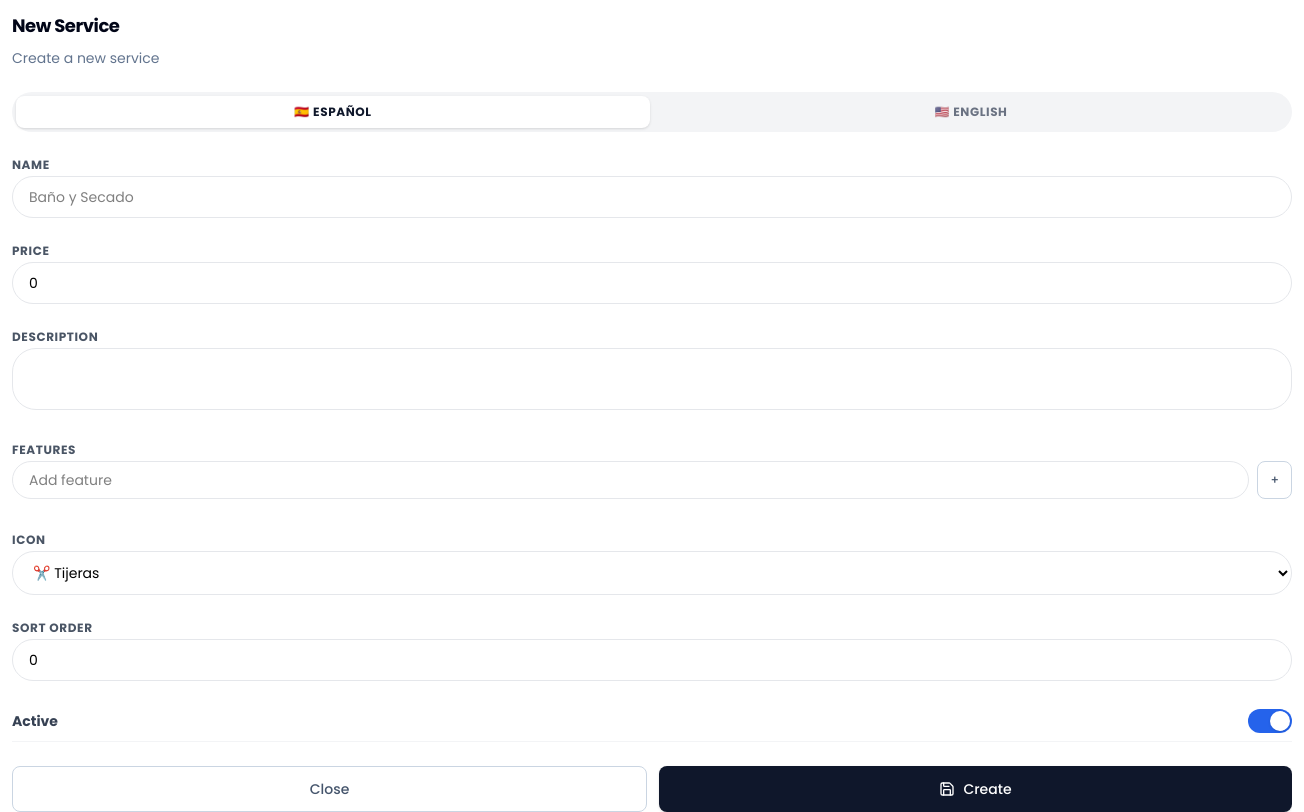
ServiceFormSidebar › creates a service successfully
Type "New Service" into the field with placeholder "Baño y Secado" at (652, 197), box [12,176,1292,218]
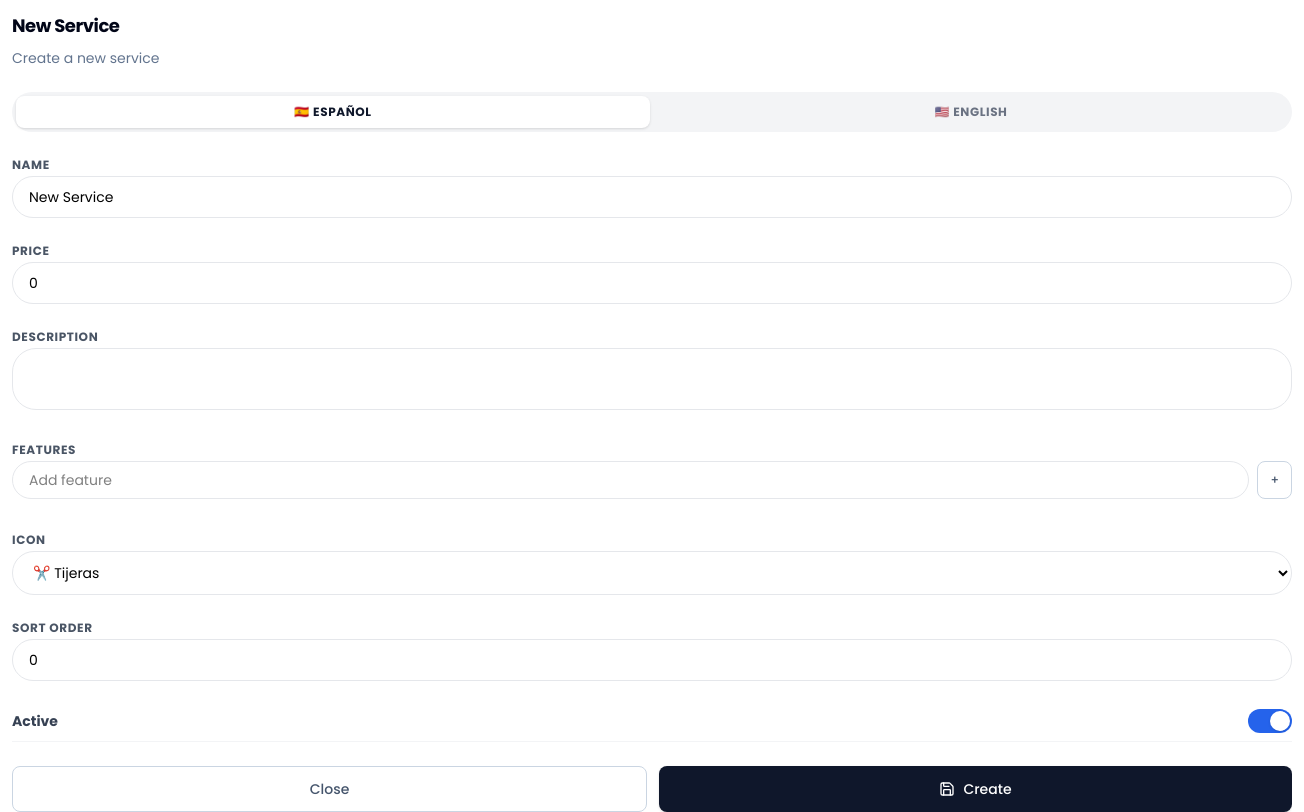
Replace the text in the number field labelled "Price" with "500" at (652, 283), box [12,262,1292,304]
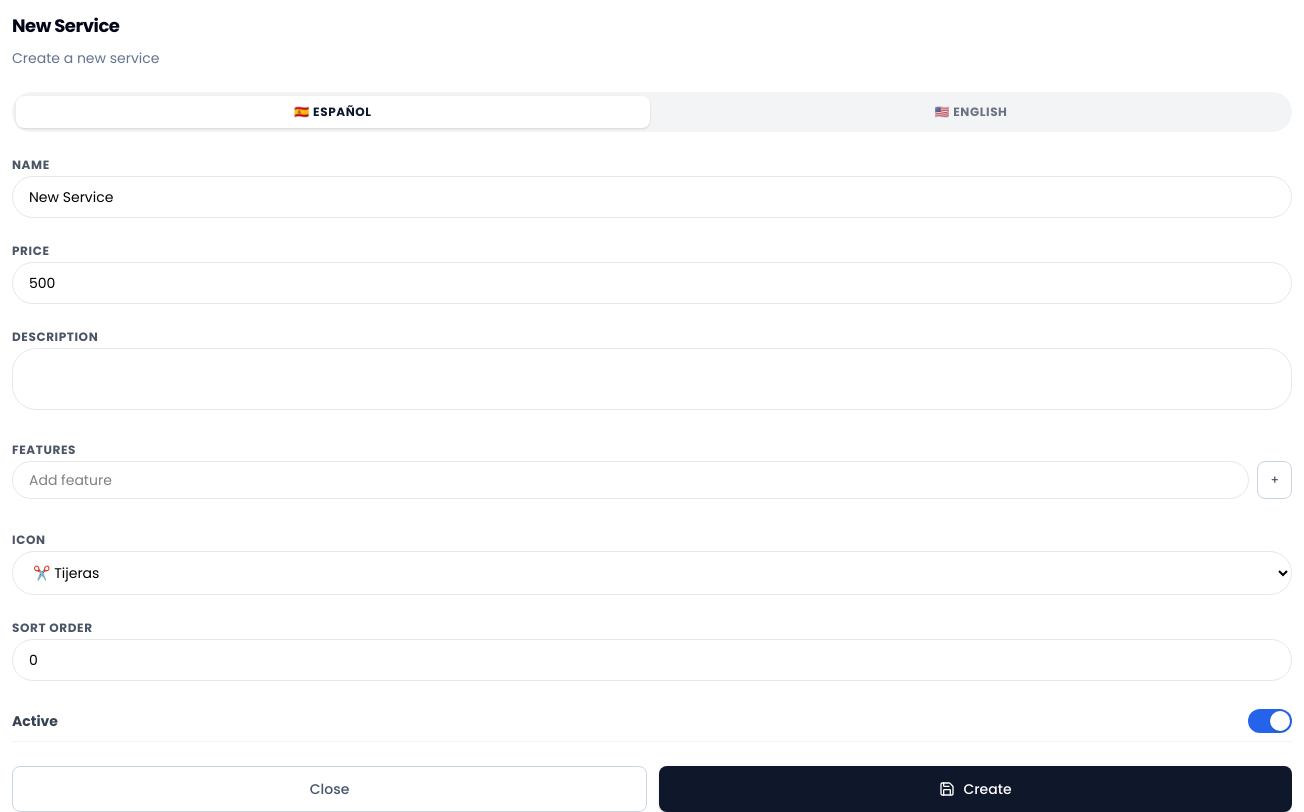
Type "New Desc" into the text box labelled "Description" at (652, 379), box [12,348,1292,410]
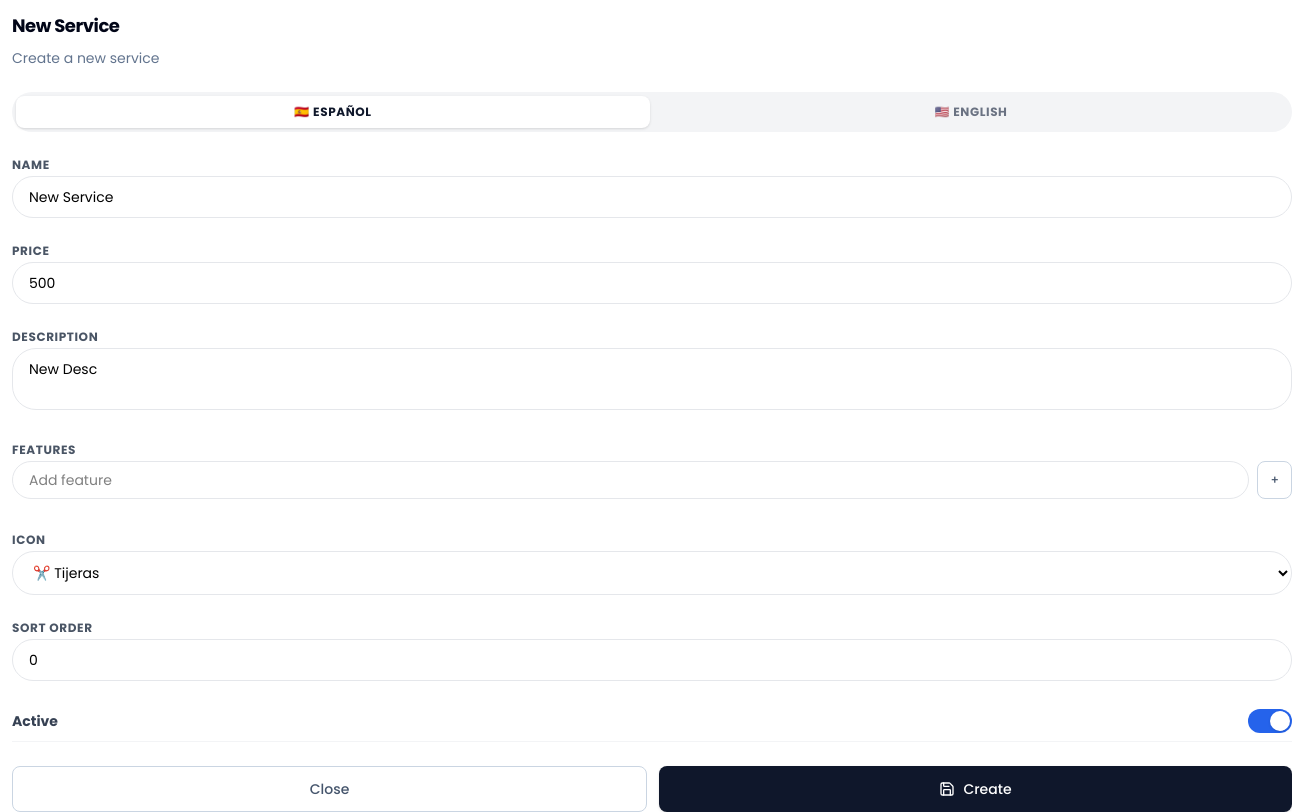
Select "✂️ Tijeras" in the dropdown labelled "Icon" at (652, 573), box [12,551,1292,595]
Replace the text in the number field labelled "Sort Order" with "10" at (652, 660), box [12,639,1292,681]
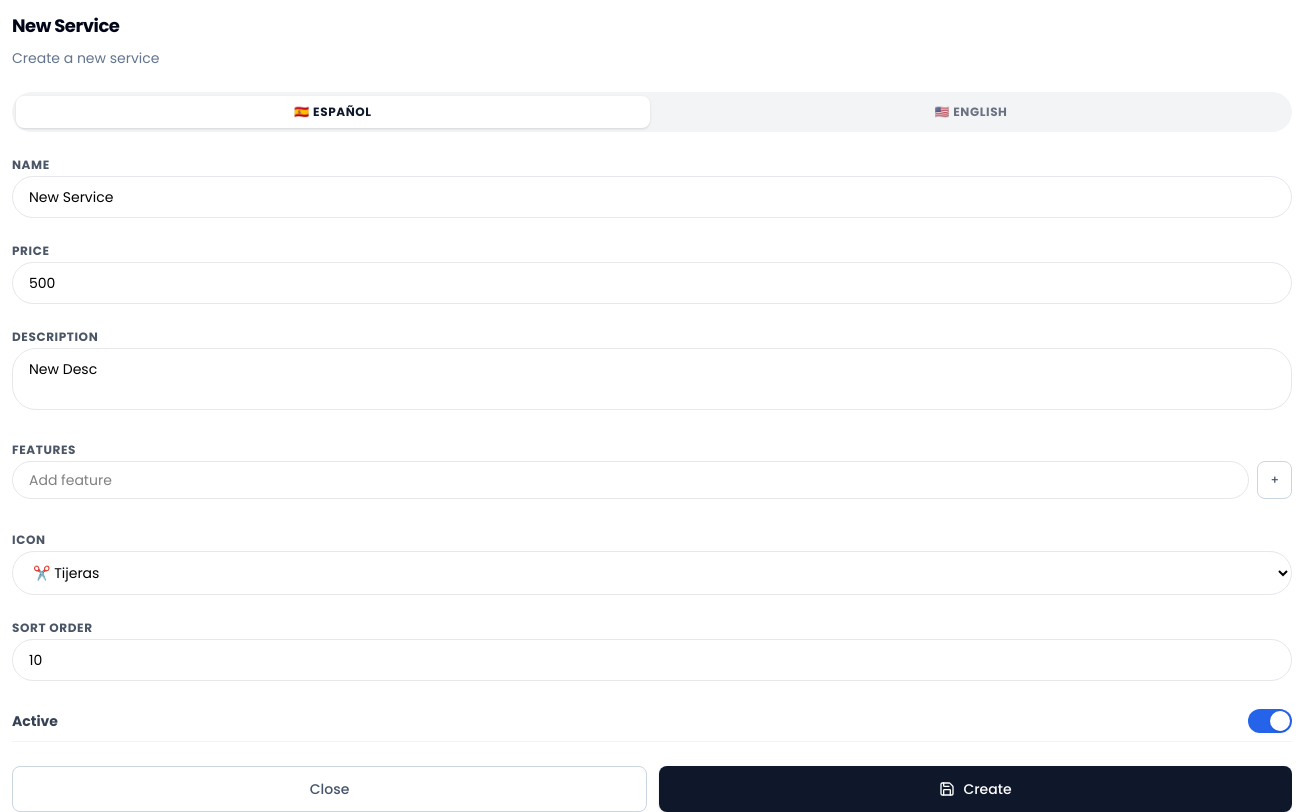
Click the button "Create" at (976, 789), box [659,766,1292,811]
Wait 1000 ms
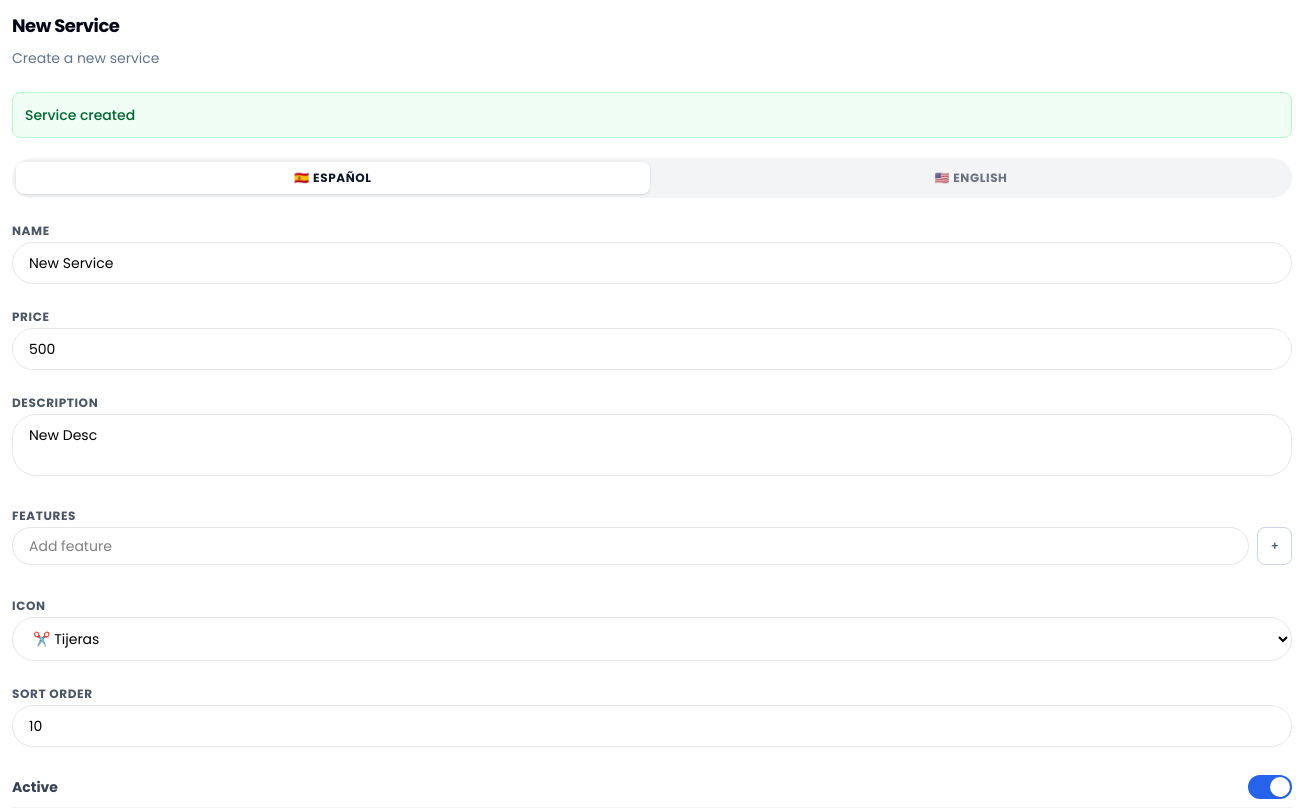
Check: the text "Service created" is shown, box [12,92,1292,138]
